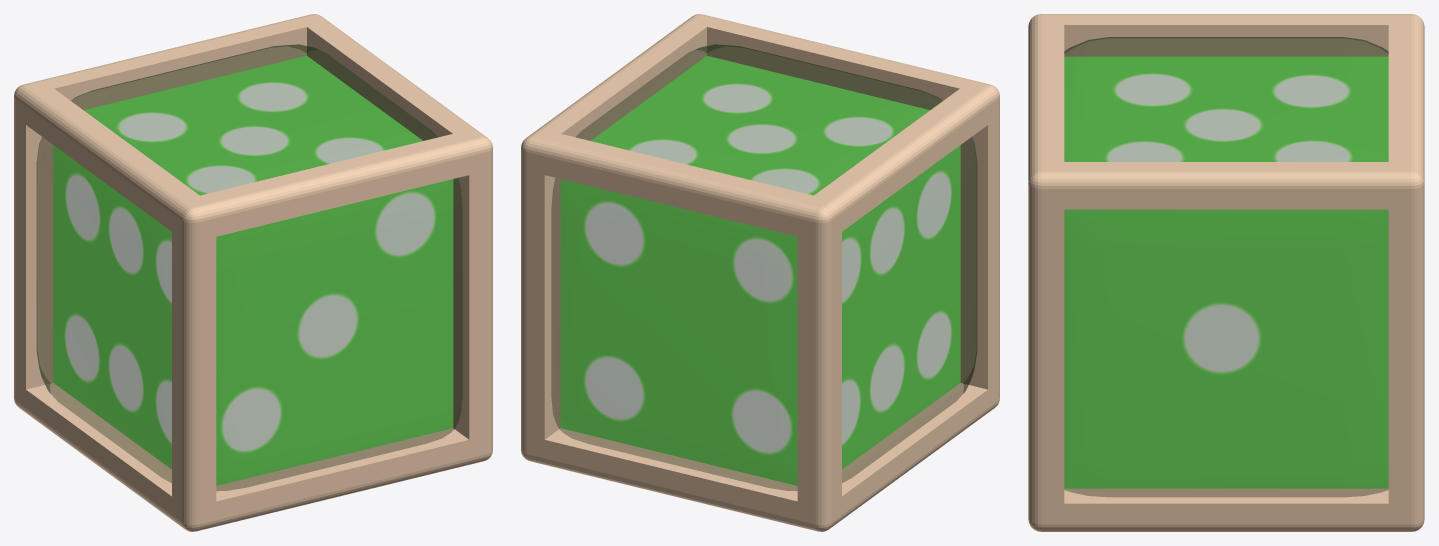
File: techdice2.glb
3 renders of one model, left to right at view 1: azimuth 30°, elevation 25°; view 2: azimuth 150°, elevation 25°; view 3: azimuth 270°, elevation 25°, orthographic. The views are drawn at different scales.
Visible parts, largest first — view 1: Cube.004, Cube.006, Cube.002; view 2: Cube.004, Cube.006, Cube.002; view 3: Cube.004, Cube.006, Cube.002.
Boxes of the visible parts, bbox=[...] form: Cube.004: bbox=[36, 44, 462, 490]; Cube.006: bbox=[53, 56, 453, 485]; Cube.002: bbox=[14, 14, 492, 531]; Cube.004: bbox=[551, 44, 977, 490]; Cube.006: bbox=[560, 56, 960, 485]; Cube.002: bbox=[521, 14, 999, 531]; Cube.004: bbox=[1064, 37, 1388, 496]; Cube.006: bbox=[1064, 56, 1388, 488]; Cube.002: bbox=[1028, 14, 1424, 531].
Size of the model in its own units: 1 by 1 by 1.
3 materials, 1 textured.
